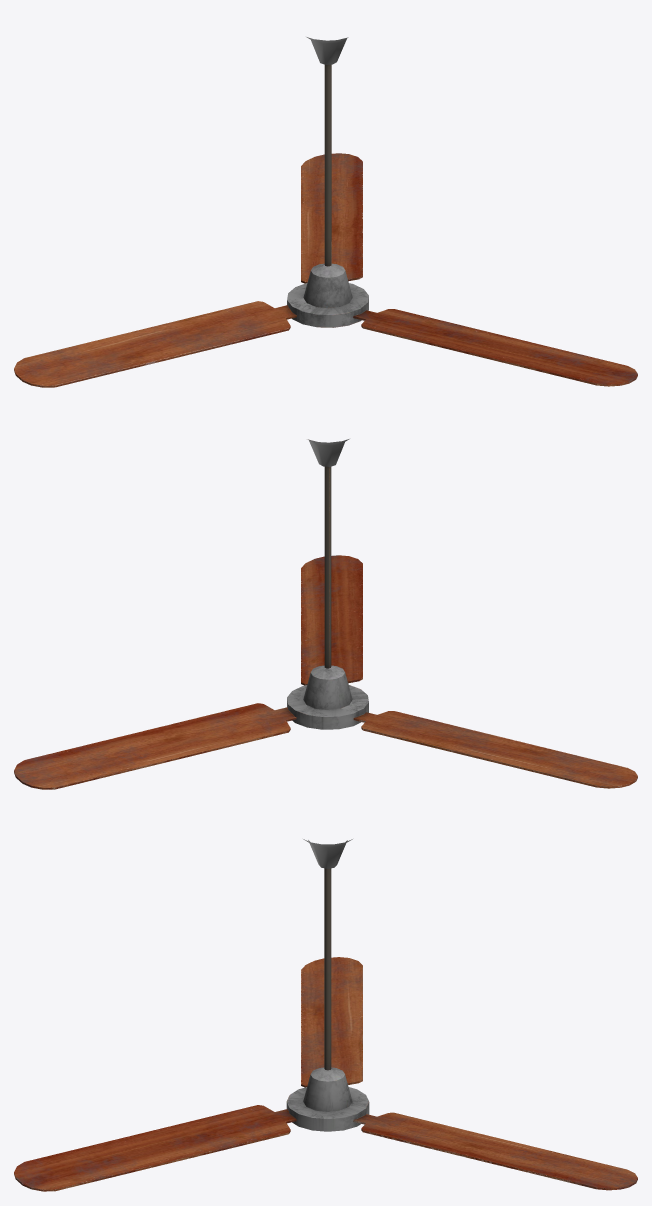
The model's file is SM_Fan_01.glb.
The picture shows the model from 3 angles, top to bottom: view 1: azimuth 30°, elevation 25°; view 2: azimuth 150°, elevation 25°; view 3: azimuth 270°, elevation 25°; orthographic projection.
Visible parts, largest first — view 1: SM_Fan_01; view 2: SM_Fan_01; view 3: SM_Fan_01.
Boxes of the visible parts, <box> form: SM_Fan_01: <box>14,37,637,387</box>; SM_Fan_01: <box>14,439,637,789</box>; SM_Fan_01: <box>14,839,637,1191</box>.
Bounding box in the file's own units: 1.53 × 0.8845 × 1.73.
Materials: 1 (1 with a texture image).
